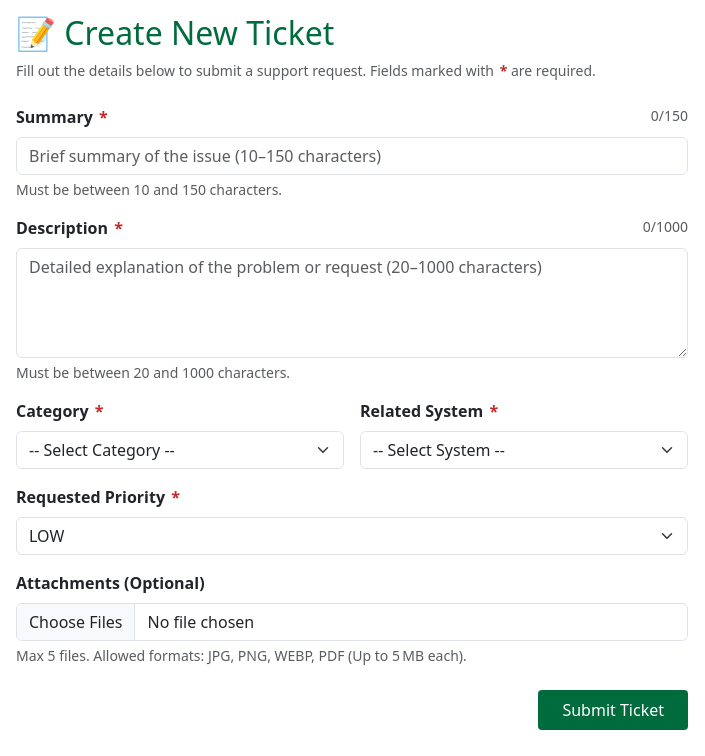
Scenario: CreateTicket Component › submits form successfully and displays official ticket number
The width and height of the screenshot is (705, 756).
Type "This is a valid summary with more than 10 characters" into the field labelled "Summary *" at point(352, 156), box [16,137,688,175]
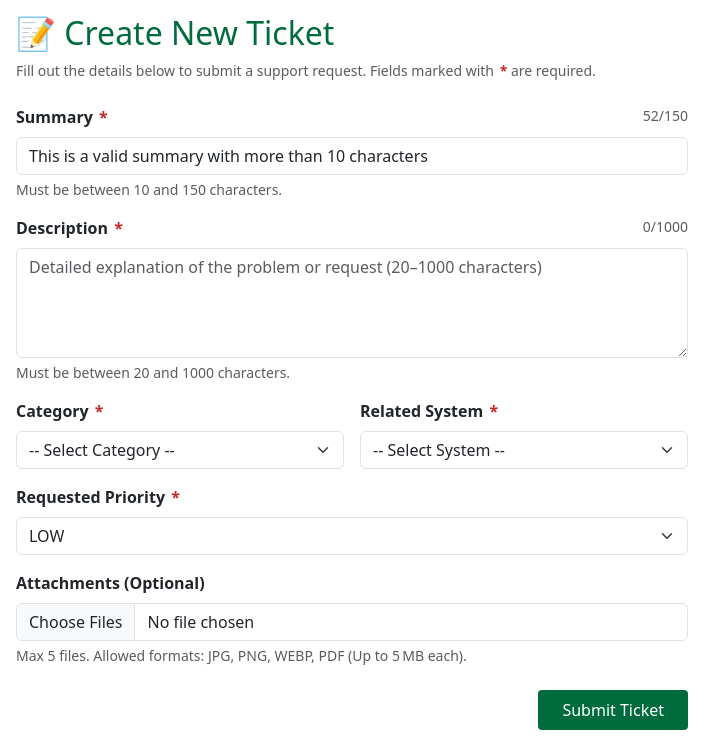
Replace the text in the text box labelled "Description *" with "This is a valid description with more than 20 characters length." at point(352, 303), box [16,248,688,358]
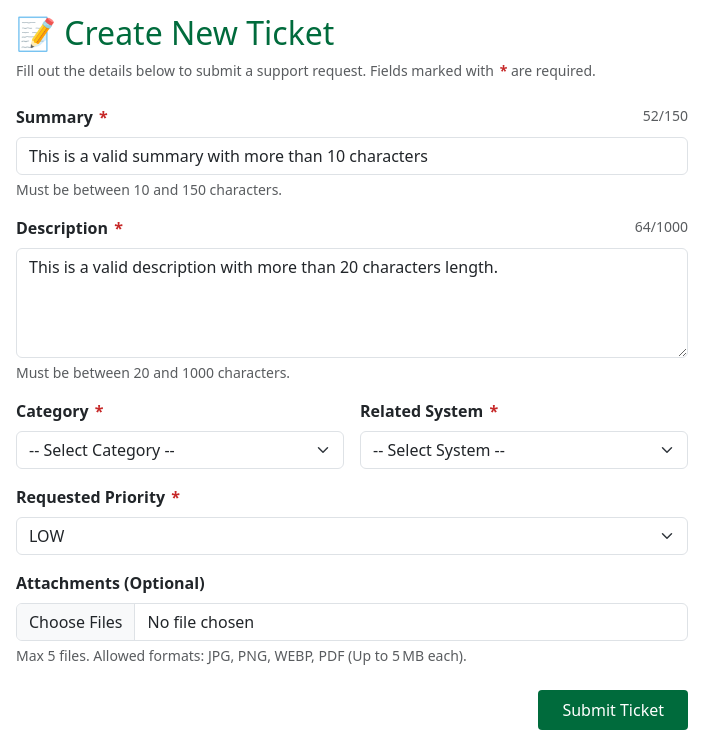
Select "Hardware" in the dropdown labelled "Category *" at point(180, 450), box [16,431,344,469]
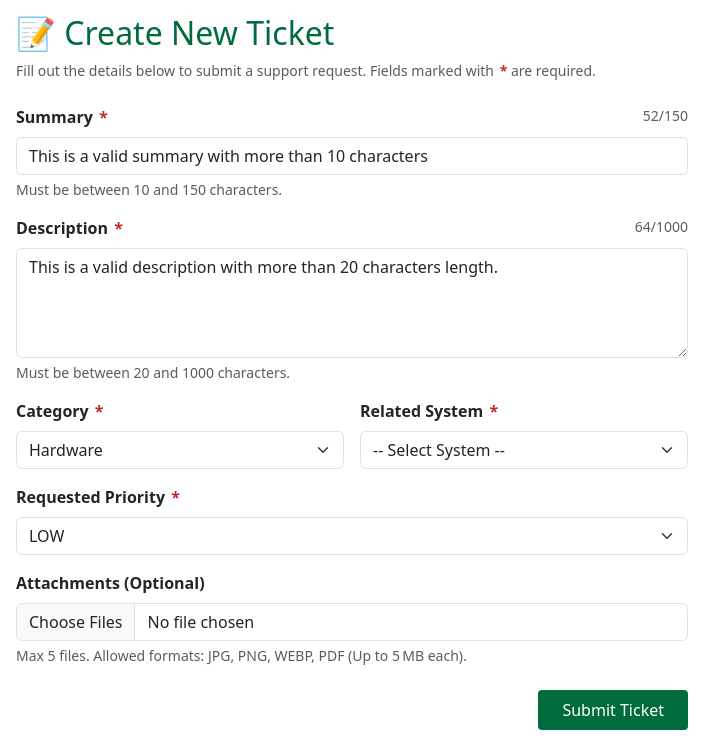
Select "Corporate Laptop" in the dropdown labelled "Related System *" at point(524, 450), box [360,431,688,469]
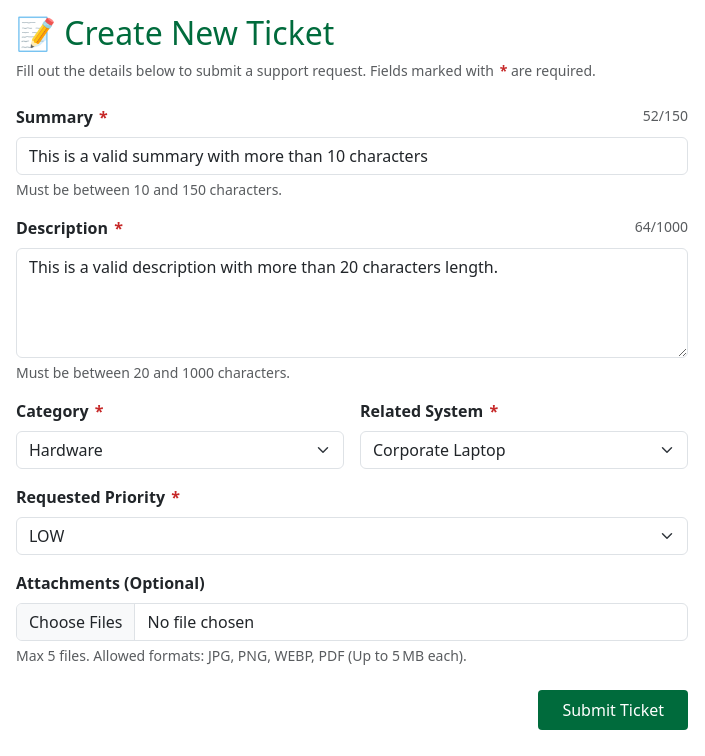
Click the button "Submit Ticket" at point(613, 710), box [538,690,688,730]
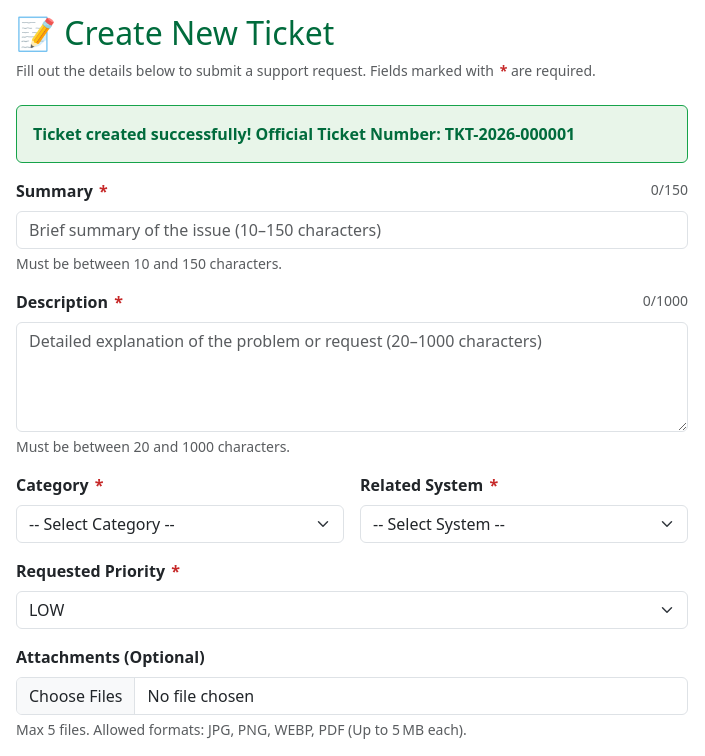
Now the text "Ticket created successfully! Official Ticket Number: TKT-2026-000001" is shown, box [33,123,575,145]
